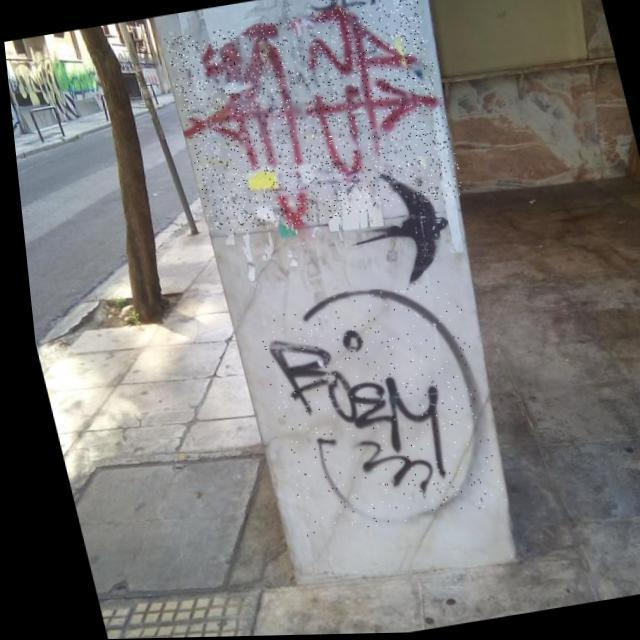-: (160, 0, 464, 239), (242, 278, 501, 540), (305, 0, 400, 17)
